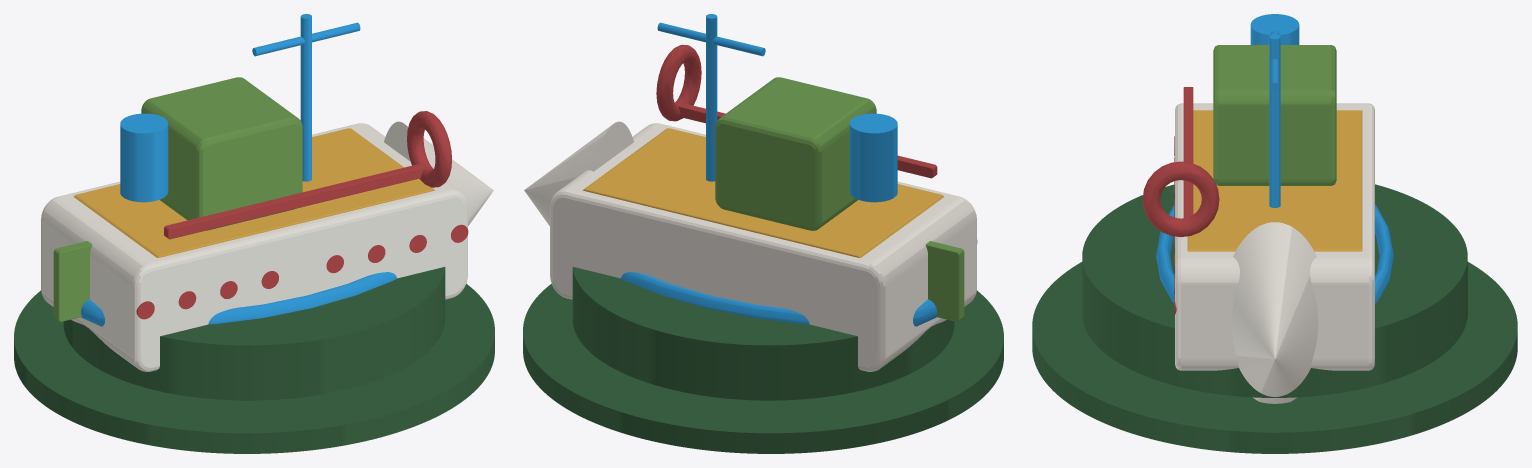
File: 0202_生活中的物理图鉴_轮船.glb
The picture shows the model from 3 angles, left to right: view 1: azimuth 30°, elevation 25°; view 2: azimuth 150°, elevation 25°; view 3: azimuth 270°, elevation 25°; orthographic projection. The views are drawn at different scales.
Parts seen in each view (by area): view 1: card_0202; view 2: card_0202; view 3: card_0202.
Part boxes in pixels (x1=…): card_0202: x1=14, y1=14, x2=494, y2=453; card_0202: x1=523, y1=14, x2=1003, y2=453; card_0202: x1=1032, y1=14, x2=1517, y2=453.
Size of the model in its own units: 1.45 by 1 by 1.3.
